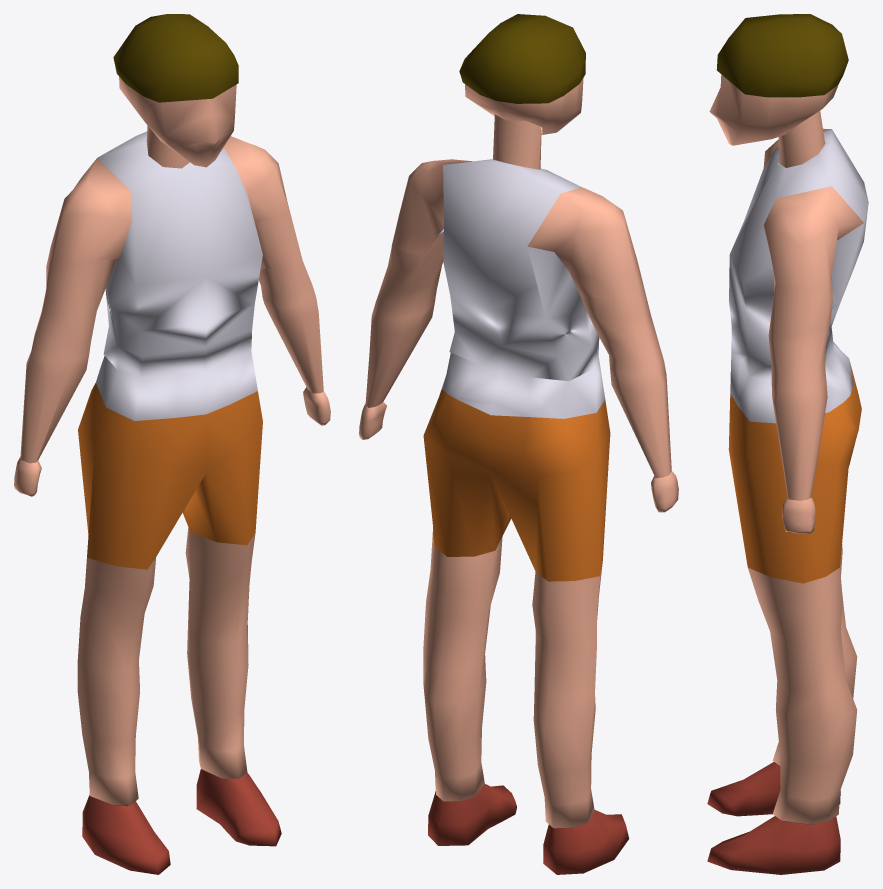
The model's file is person3.fbx.
3 renders of one model, left to right at view 1: azimuth 30°, elevation 25°; view 2: azimuth 150°, elevation 25°; view 3: azimuth 270°, elevation 25°, orthographic.
Visible parts, largest first — view 1: Reto, Reto.008, Reto.007, Reto.005, Reto.006, Reto.001, Reto.002, Reto.004, Reto.003; view 2: Reto, Reto.008, Reto.007, Reto.005, Reto.001, Reto.006, Reto.002, Reto.003, Reto.004; view 3: Reto.008, Reto.007, Reto, Reto.005, Reto.001, Reto.006, Reto.002, Reto.003, Reto.004.
Boxes of the visible parts, left/top/right/bottom form: Reto: left=96, top=131, right=262, bottom=420; Reto.008: left=77, top=527, right=255, bottom=805; Reto.007: left=20, top=136, right=323, bottom=463; Reto.005: left=78, top=383, right=262, bottom=569; Reto.006: left=82, top=769, right=281, bottom=874; Reto.001: left=113, top=14, right=238, bottom=102; Reto.002: left=119, top=76, right=236, bottom=167; Reto.004: left=14, top=387, right=330, bottom=496; Reto.003: left=146, top=125, right=189, bottom=168; Reto: left=436, top=159, right=605, bottom=418; Reto.008: left=423, top=536, right=602, bottom=828; Reto.007: left=365, top=159, right=671, bottom=477; Reto.005: left=423, top=389, right=610, bottom=581; Reto.001: left=459, top=14, right=585, bottom=103; Reto.006: left=428, top=784, right=629, bottom=874; Reto.002: left=465, top=78, right=583, bottom=134; Reto.003: left=493, top=114, right=541, bottom=169; Reto.004: left=359, top=402, right=678, bottom=512; Reto.008: left=748, top=544, right=857, bottom=824; Reto.007: left=763, top=128, right=863, bottom=500; Reto: left=729, top=129, right=868, bottom=423; Reto.005: left=728, top=363, right=861, bottom=583; Reto.001: left=716, top=14, right=848, bottom=97; Reto.006: left=707, top=762, right=840, bottom=874; Reto.002: left=709, top=74, right=837, bottom=145; Reto.003: left=778, top=111, right=825, bottom=167; Reto.004: left=782, top=497, right=815, bottom=533.
Bounding box in the file's own units: 1192 × 2993 × 538.
